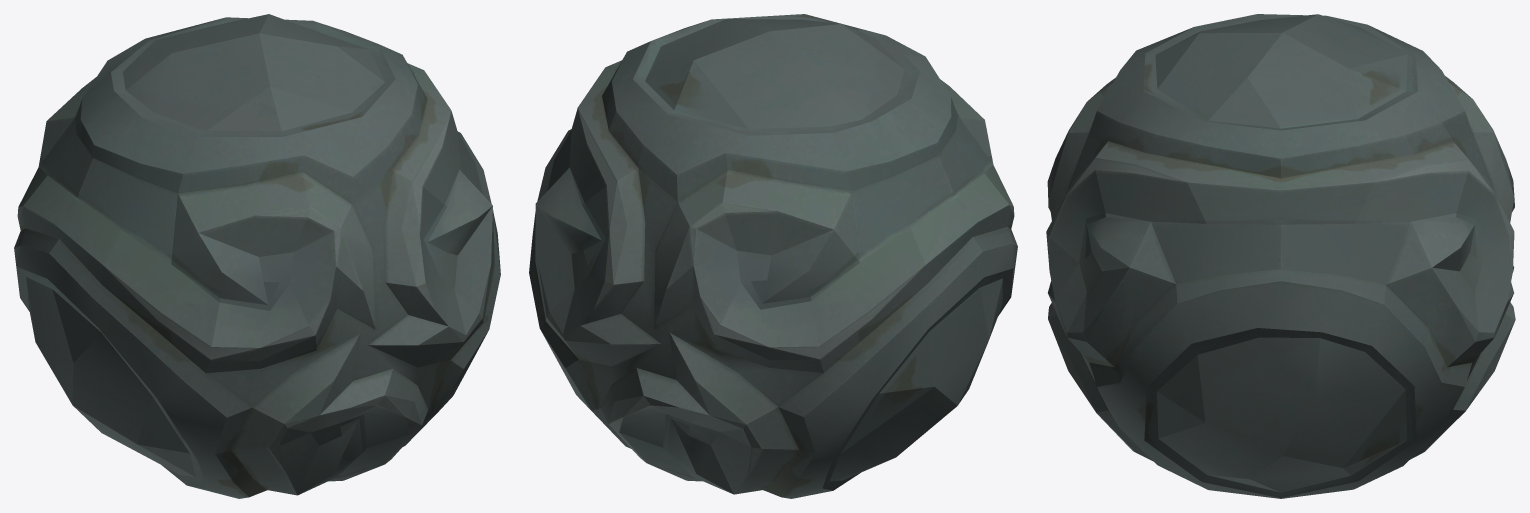
File: 1610_rocktraptest.fbx
3 views of the same model, side by side, from view 1: azimuth 30°, elevation 25°; view 2: azimuth 150°, elevation 25°; view 3: azimuth 270°, elevation 25° (orthographic).
Parts seen in each view (by area): view 1: 1610_rocktraptest; view 2: 1610_rocktraptest; view 3: 1610_rocktraptest.
Part boxes in pixels (bbox=[...]): 1610_rocktraptest: bbox=[14, 14, 500, 498]; 1610_rocktraptest: bbox=[529, 14, 1017, 498]; 1610_rocktraptest: bbox=[1046, 14, 1515, 498].
Bounding box in the file's own units: 4.42 × 4.46 × 4.26.
Materials: 1 (1 with a texture image).
